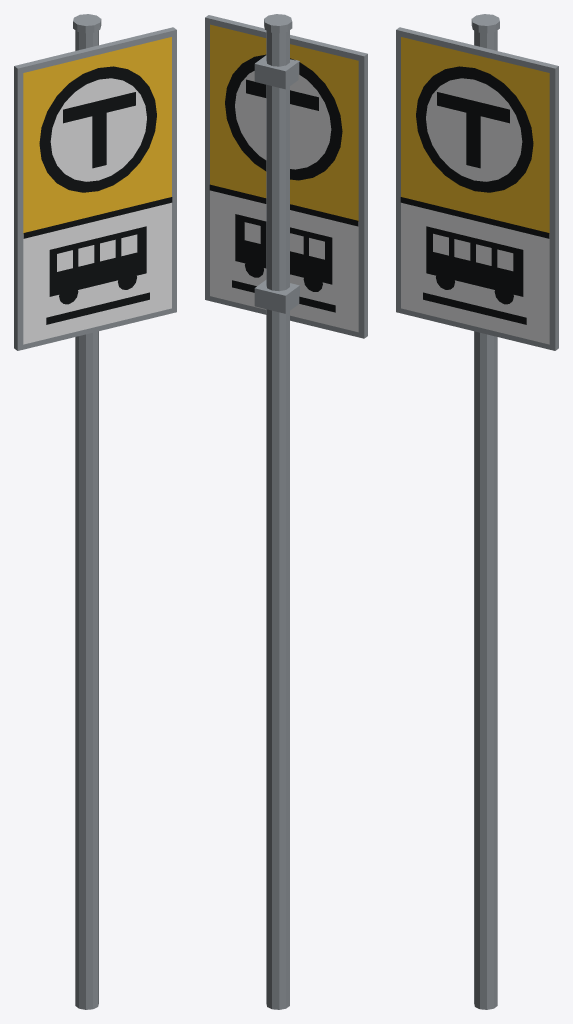
File: bus-stop-sign.glb
3 renders of one model, left to right at view 1: azimuth 30°, elevation 25°; view 2: azimuth 150°, elevation 25°; view 3: azimuth 330°, elevation 25°, orthographic.
Parts seen in each view (by area): view 1: bus-stop-sign; view 2: bus-stop-sign; view 3: bus-stop-sign.
Part boxes in pixels (left/top/right/bottom): bus-stop-sign: left=14, top=14, right=176, bottom=1009; bus-stop-sign: left=205, top=14, right=367, bottom=1009; bus-stop-sign: left=396, top=14, right=558, bottom=1009.
Bounding box in the file's own units: 0.46 × 2.72 × 0.102.
